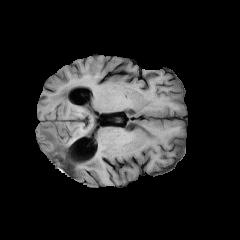glioma: (39, 88, 111, 175)
